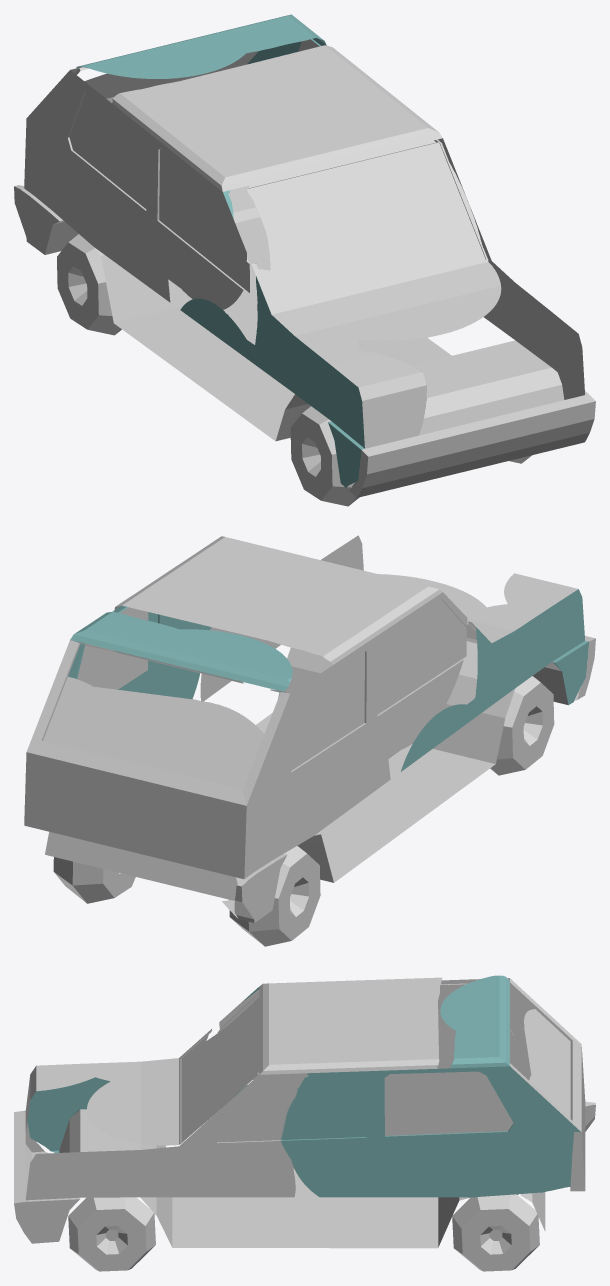
Rendered from Model_Samochod.fbx.
3 renders of one model, top to bottom at view 1: azimuth 30°, elevation 25°; view 2: azimuth 150°, elevation 25°; view 3: azimuth 270°, elevation 25°, orthographic. The views are drawn at different scales.
Parts seen in each view (by area): view 1: Mesh_samochod; view 2: Mesh_samochod; view 3: Mesh_samochod.
Boxes of the visible parts, x1=… form: Mesh_samochod: x1=14, y1=14, x2=595, y2=506; Mesh_samochod: x1=24, y1=535, x2=595, y2=946; Mesh_samochod: x1=14, y1=975, x2=595, y2=1271.
Bounding box in the file's own units: 382 × 158 × 142.
